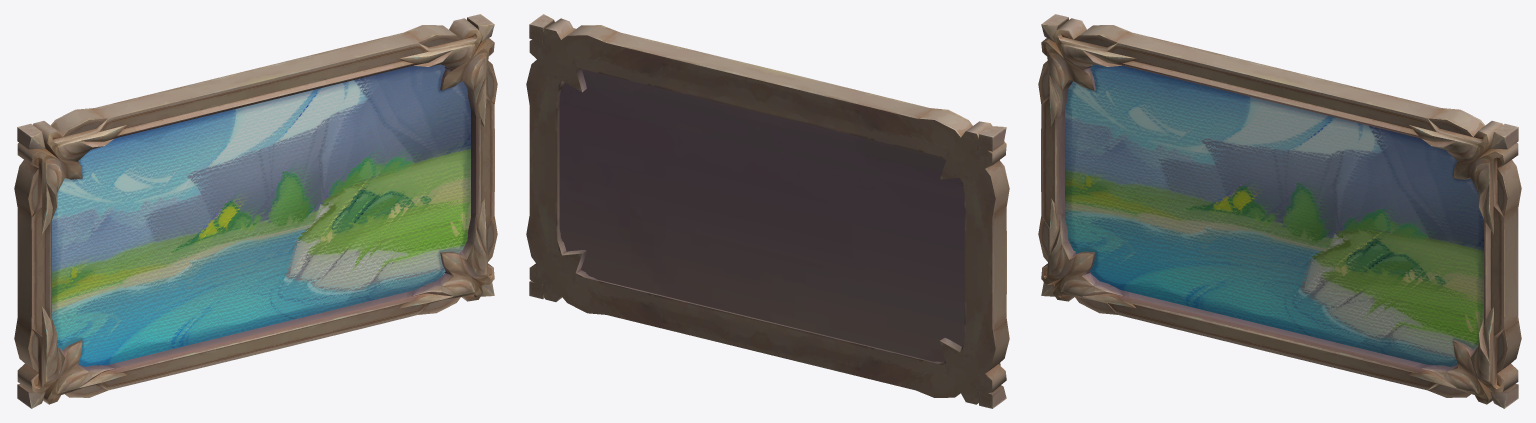
File: Homeworld_Interior_Md_Walldecoration_Prop_HangPicture_01_Vo.fbx
3 views of the same model, side by side, from view 1: azimuth 30°, elevation 25°; view 2: azimuth 150°, elevation 25°; view 3: azimuth 330°, elevation 25° (orthographic).
Visible parts, largest first — view 1: Homeworld_Interior_Md_Walldecoration_Prop_HangPicture_01_Vo; view 2: Homeworld_Interior_Md_Walldecoration_Prop_HangPicture_01_Vo; view 3: Homeworld_Interior_Md_Walldecoration_Prop_HangPicture_01_Vo.
Boxes of the visible parts, x1=… form: Homeworld_Interior_Md_Walldecoration_Prop_HangPicture_01_Vo: x1=14, y1=14, x2=497, y2=408; Homeworld_Interior_Md_Walldecoration_Prop_HangPicture_01_Vo: x1=526, y1=14, x2=1009, y2=408; Homeworld_Interior_Md_Walldecoration_Prop_HangPicture_01_Vo: x1=1038, y1=14, x2=1521, y2=408.
Bounding box in the file's own units: 1.26 × 0.7147 × 0.089.
1 material, 1 textured.
